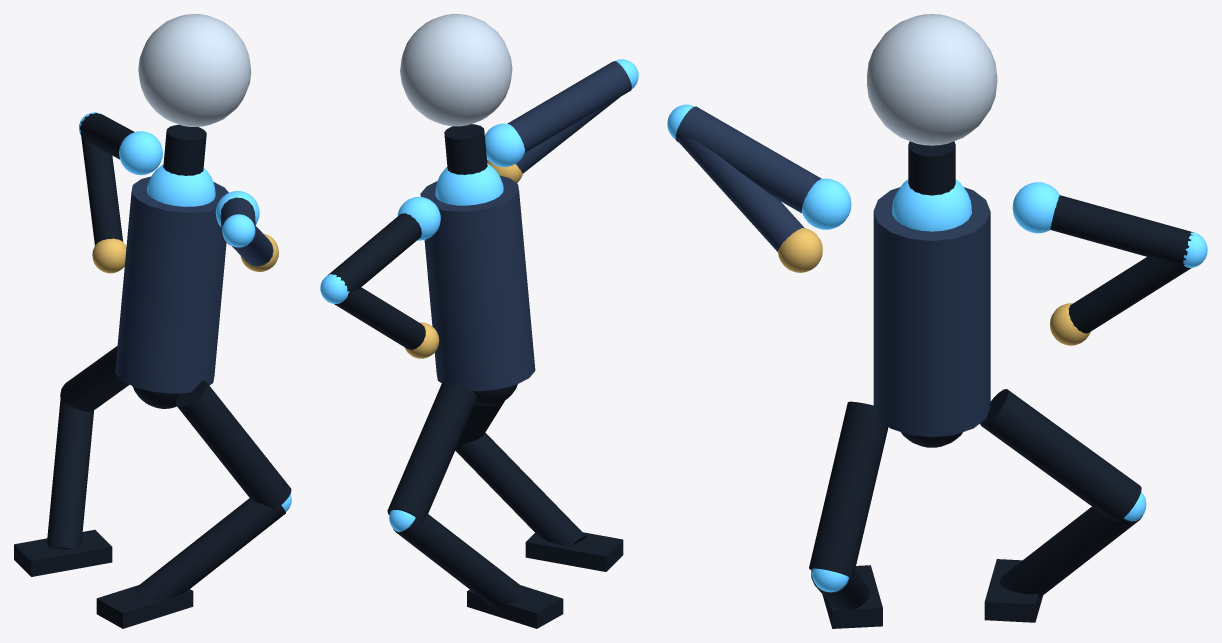
The model's file is procedural-sword-lab-fighter-v1.glb.
3 views of the same model, side by side, from view 1: azimuth 30°, elevation 25°; view 2: azimuth 150°, elevation 25°; view 3: azimuth 270°, elevation 25° (orthographic). The views are drawn at different scales.
Visible parts, largest first — view 1: torso, head, rThigh, rShin, lShin, lFoot, lFore, rFoot, lThigh, chest, neck, lShoulder (+7 smaller); view 2: torso, head, lThigh, rShin, lShin, rUpper, lUpper, rFoot, lFore, chest, lFoot, neck (+7 smaller); view 3: torso, head, lThigh, rThigh, rUpper, lUpper, lShin, rFore, lFore, chest, neck, lFoot (+6 smaller).
Part boxes in pixels (x1,y1,x2,y2): torso: (115, 176, 228, 393); head: (138, 14, 251, 126); rThigh: (175, 380, 291, 509); rShin: (134, 498, 285, 600); lShin: (47, 399, 93, 549); lFoot: (14, 529, 112, 576); lFore: (81, 134, 123, 244); rFoot: (96, 585, 193, 628); lThigh: (60, 346, 129, 411); chest: (147, 164, 215, 206); neck: (163, 124, 206, 175); lShoulder: (119, 131, 162, 175); torso: (420, 175, 535, 391); head: (400, 14, 512, 126); lThigh: (387, 381, 477, 521); rShin: (455, 433, 586, 546); lShin: (393, 514, 527, 610); rUpper: (508, 61, 631, 152); lUpper: (328, 213, 421, 295); rFoot: (525, 532, 623, 571); lFore: (334, 287, 425, 349); chest: (435, 163, 503, 205); lFoot: (467, 585, 563, 628); neck: (444, 124, 487, 174); torso: (873, 187, 990, 437); head: (867, 14, 997, 145); lThigh: (980, 389, 1141, 522); rThigh: (809, 401, 888, 578); rUpper: (675, 106, 821, 213); lUpper: (1050, 195, 1193, 264); lShin: (1000, 507, 1142, 597); rFore: (678, 136, 804, 251); lFore: (1068, 257, 1191, 333); chest: (892, 179, 971, 231); neck: (908, 141, 955, 195); lFoot: (984, 559, 1042, 622).
Bounding box in the file's own units: 0.6867 × 1.93 × 1.48.
